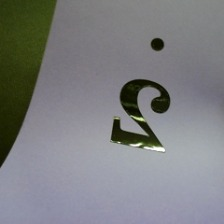violet2: (100, 34, 180, 158)
